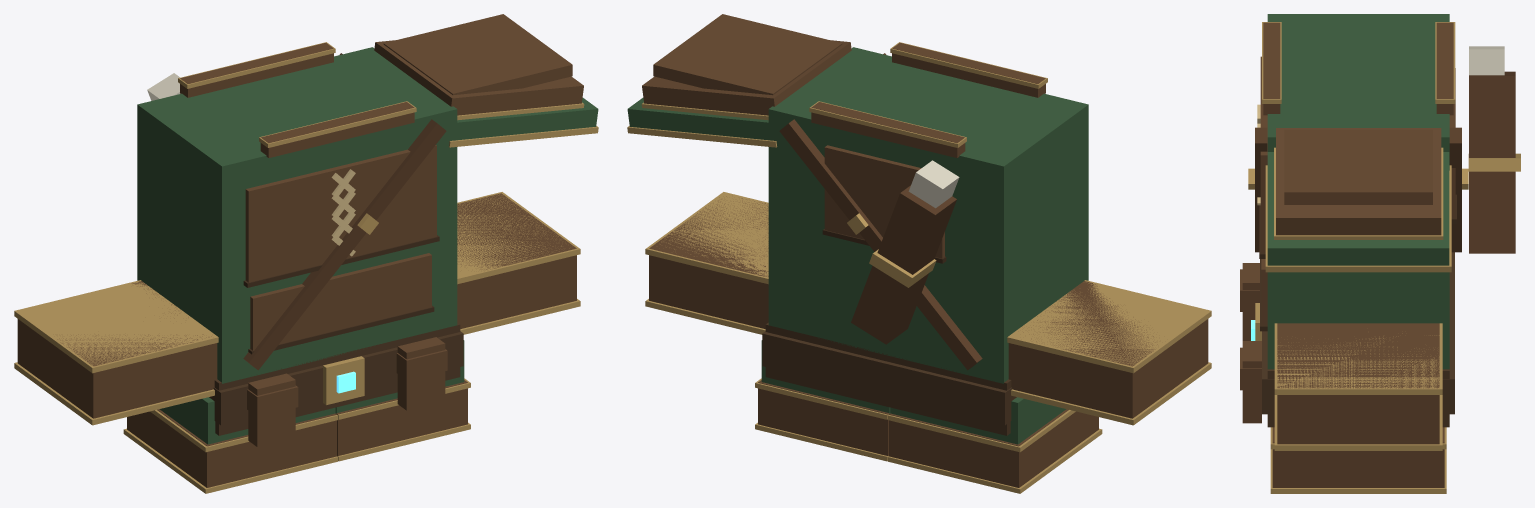
The picture shows the model from 3 angles, left to right: view 1: azimuth 30°, elevation 25°; view 2: azimuth 150°, elevation 25°; view 3: azimuth 270°, elevation 25°; orthographic projection. The views are drawn at different scales.
Parts seen in each view (by area): view 1: ranger-jerkin; view 2: ranger-jerkin; view 3: ranger-jerkin.
Boxes of the visible parts, x1,y1,x2,y2 form: ranger-jerkin: [14, 14, 598, 493]; ranger-jerkin: [627, 14, 1211, 493]; ranger-jerkin: [1240, 14, 1520, 493].
Bounding box in the file's own units: 1.18 × 0.7567 × 0.5296.
